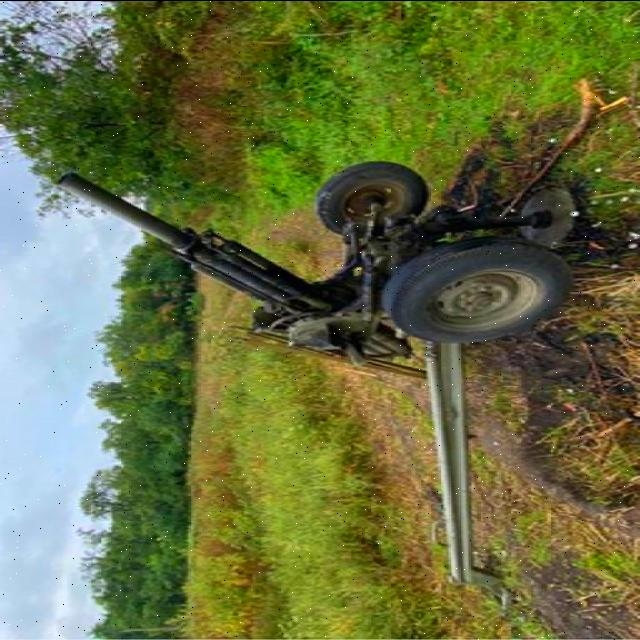ART: (42, 162, 566, 588)
